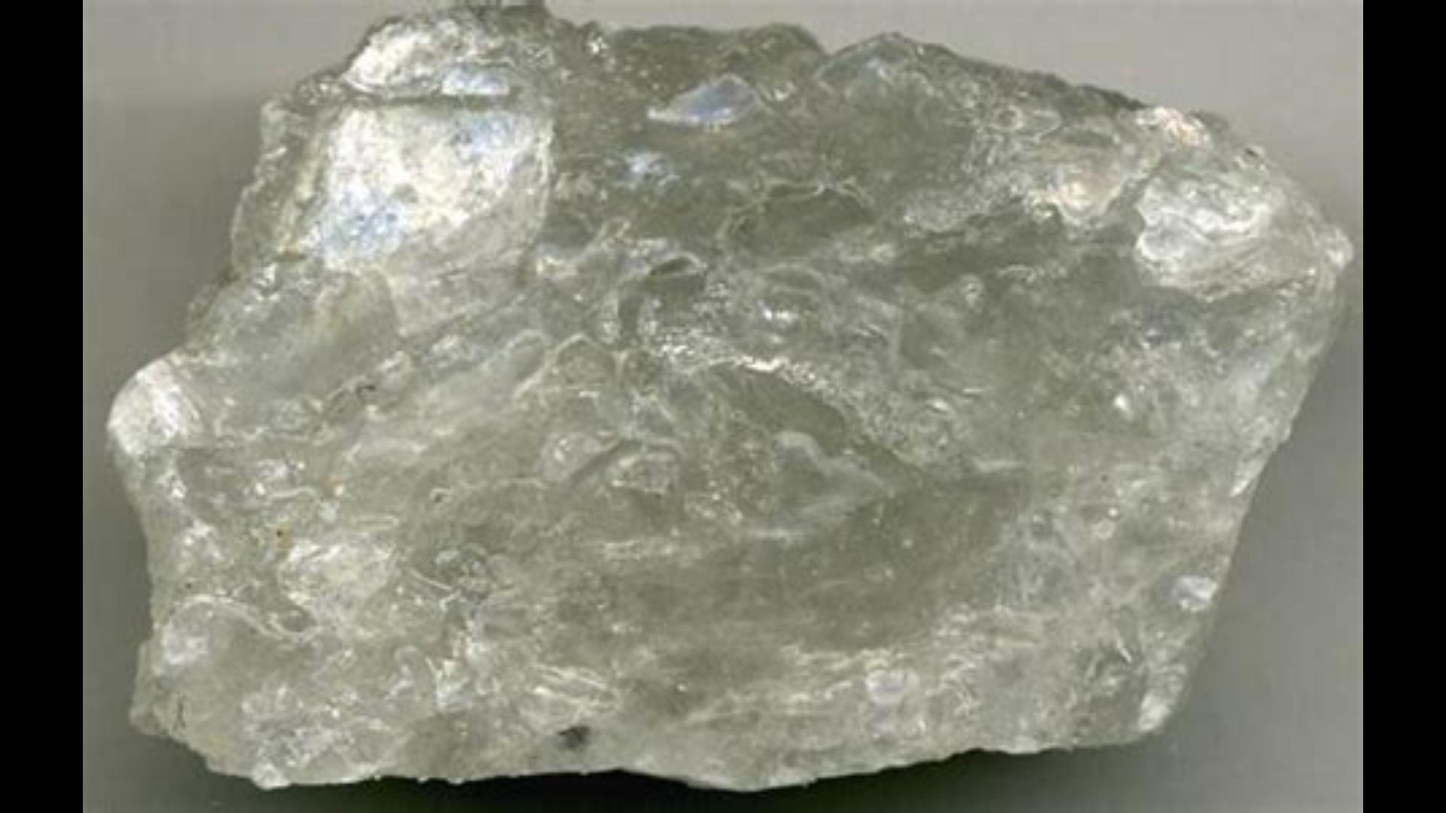rock: (113, 5, 1350, 789)
